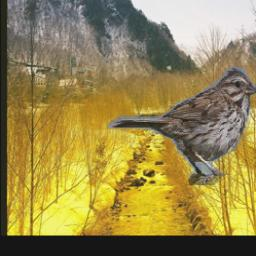Sparrow: (108, 64, 256, 185)
